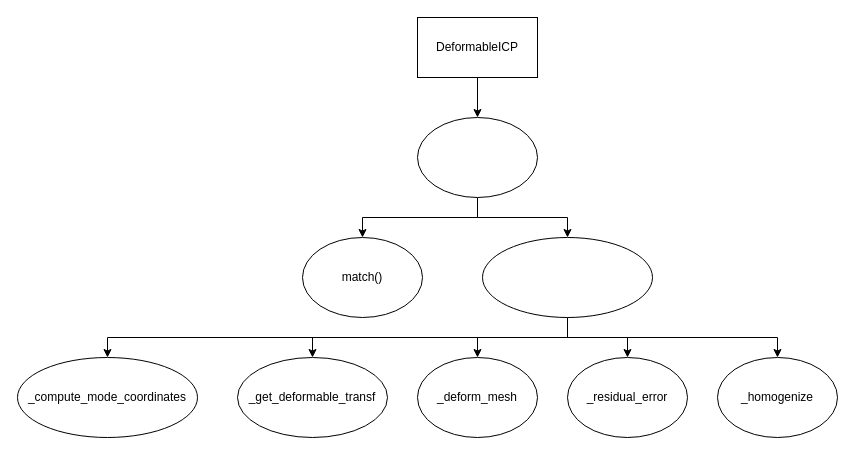
Image size: 855x455. Some labels were removed from this diagram. The shapes that lost their labels are listed below. From the top down, each one's centre as x and y in pixels, then its label:
(x=477, y=157): __call__()
(x=567, y=277): get_new_deformed_mesh()
